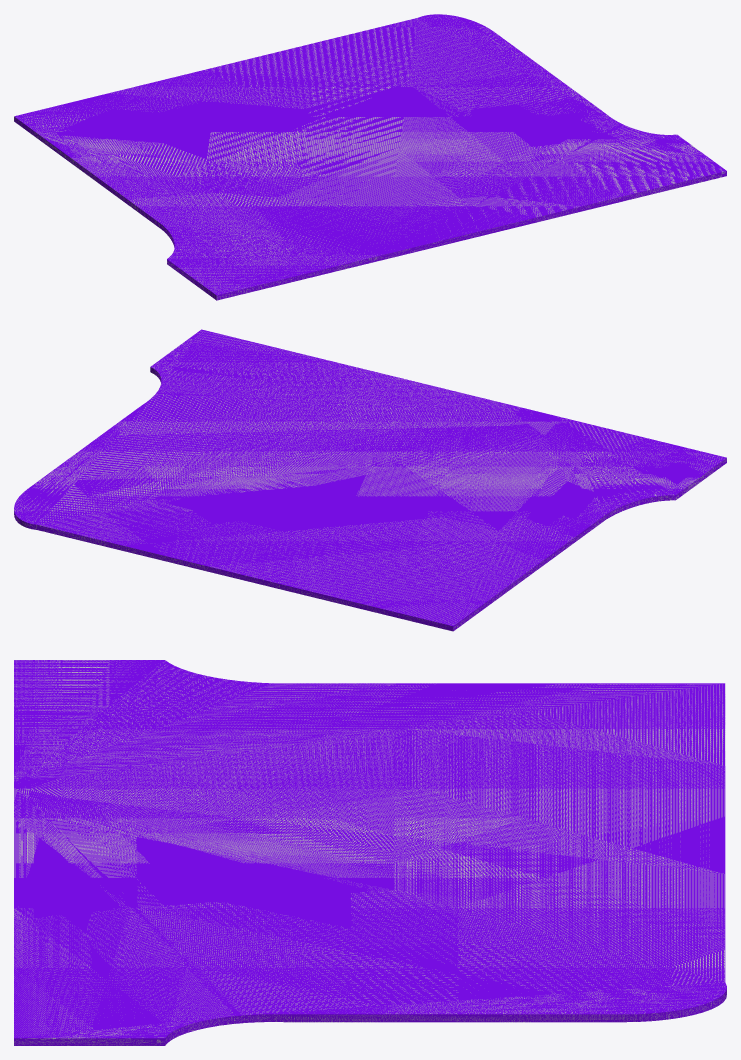
The model's file is original-25.obj.
The picture shows the model from 3 angles, top to bottom: view 1: azimuth 30°, elevation 25°; view 2: azimuth 150°, elevation 25°; view 3: azimuth 270°, elevation 25°; orthographic projection. The views are drawn at different scales.
Visible parts, largest first — view 1: Componente_3_10/Componente_3/mesh11/mesh11-geometry#mesh11-geome; view 2: Componente_3_10/Componente_3/mesh11/mesh11-geometry#mesh11-geome; view 3: Componente_3_10/Componente_3/mesh11/mesh11-geometry#mesh11-geome.
Part boxes in pixels (box(x1,y1,x2,y2)): Componente_3_10/Componente_3/mesh11/mesh11-geometry#mesh11-geome: box(14, 14, 726, 300); Componente_3_10/Componente_3/mesh11/mesh11-geometry#mesh11-geome: box(14, 329, 726, 631); Componente_3_10/Componente_3/mesh11/mesh11-geometry#mesh11-geome: box(14, 660, 726, 1045).
Bounding box in the file's own units: 0.078 × 0.000748 × 0.0621.
